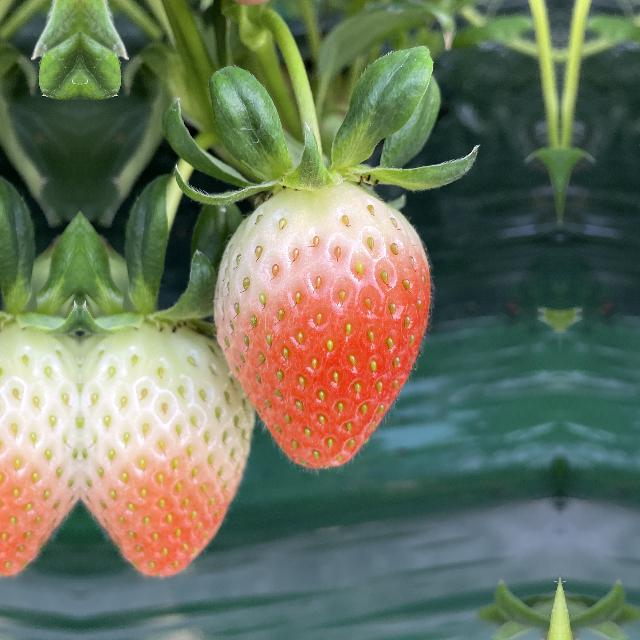Health_50: (80, 308, 250, 582), (0, 307, 80, 582)
Health_75: (214, 171, 438, 477)
